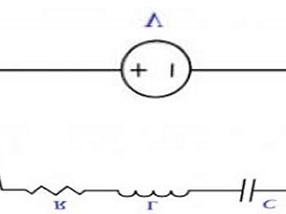inductor: (110, 178, 193, 202)
